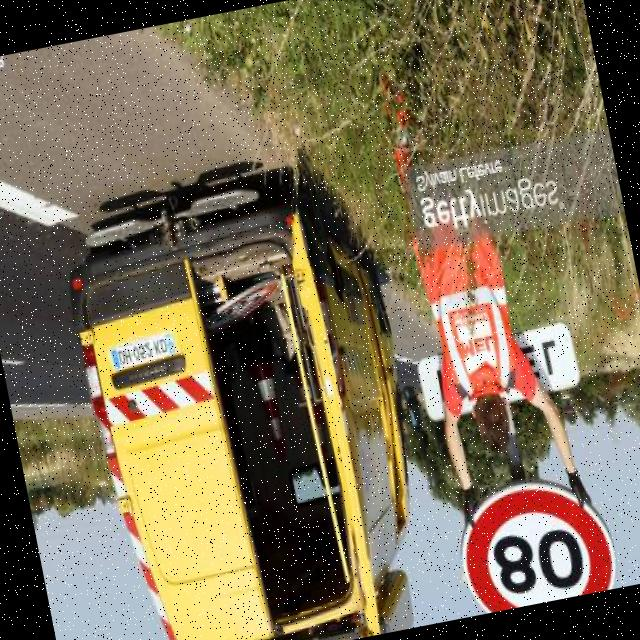speed_limit_80: (446, 472, 628, 617)
